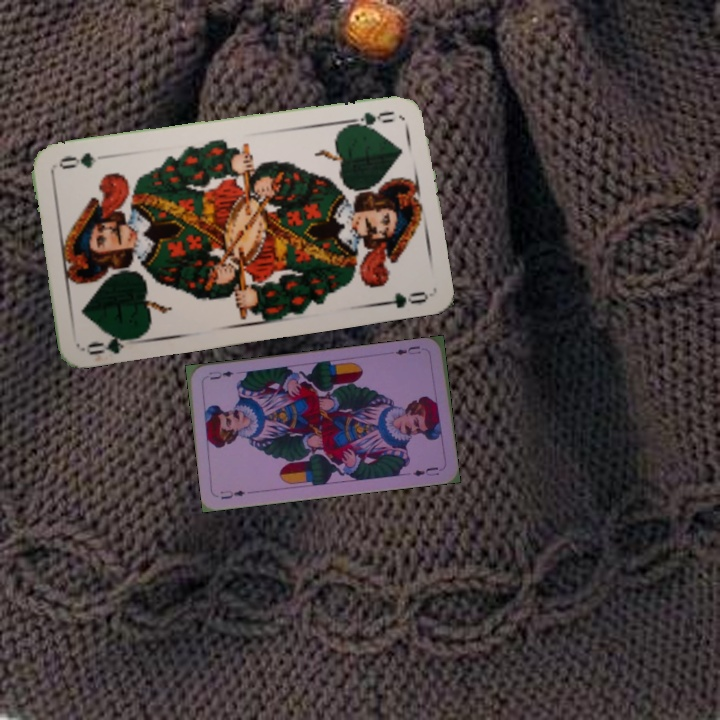EU: (391, 342, 423, 358), (216, 486, 248, 502)
GO: (83, 329, 141, 358), (341, 107, 397, 130)
